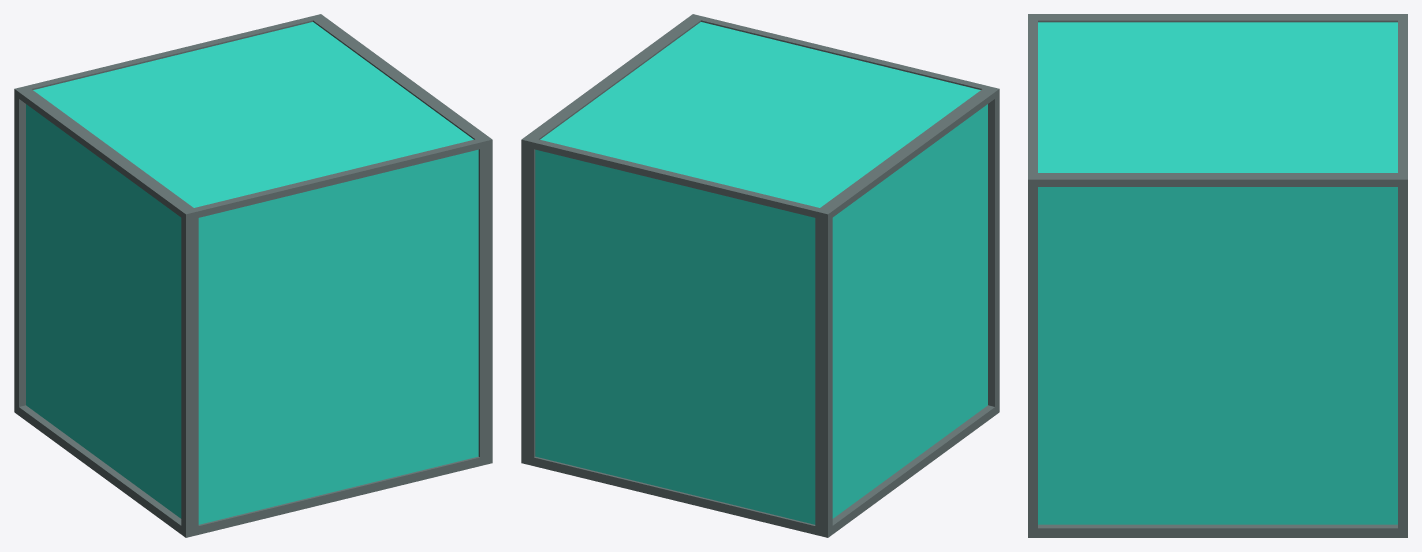
File: Cage.fbx
3 renders of one model, left to right at view 1: azimuth 30°, elevation 25°; view 2: azimuth 150°, elevation 25°; view 3: azimuth 270°, elevation 25°, orthographic. The views are drawn at different scales.
Parts seen in each view (by area): view 1: Cage; view 2: Cage; view 3: Cage.
Boxes of the visible parts, x1=… form: Cage: x1=14, y1=14, x2=492, y2=537; Cage: x1=521, y1=14, x2=999, y2=537; Cage: x1=1028, y1=14, x2=1407, y2=537.
Bounding box in the file's own units: 396 × 400 × 384.
